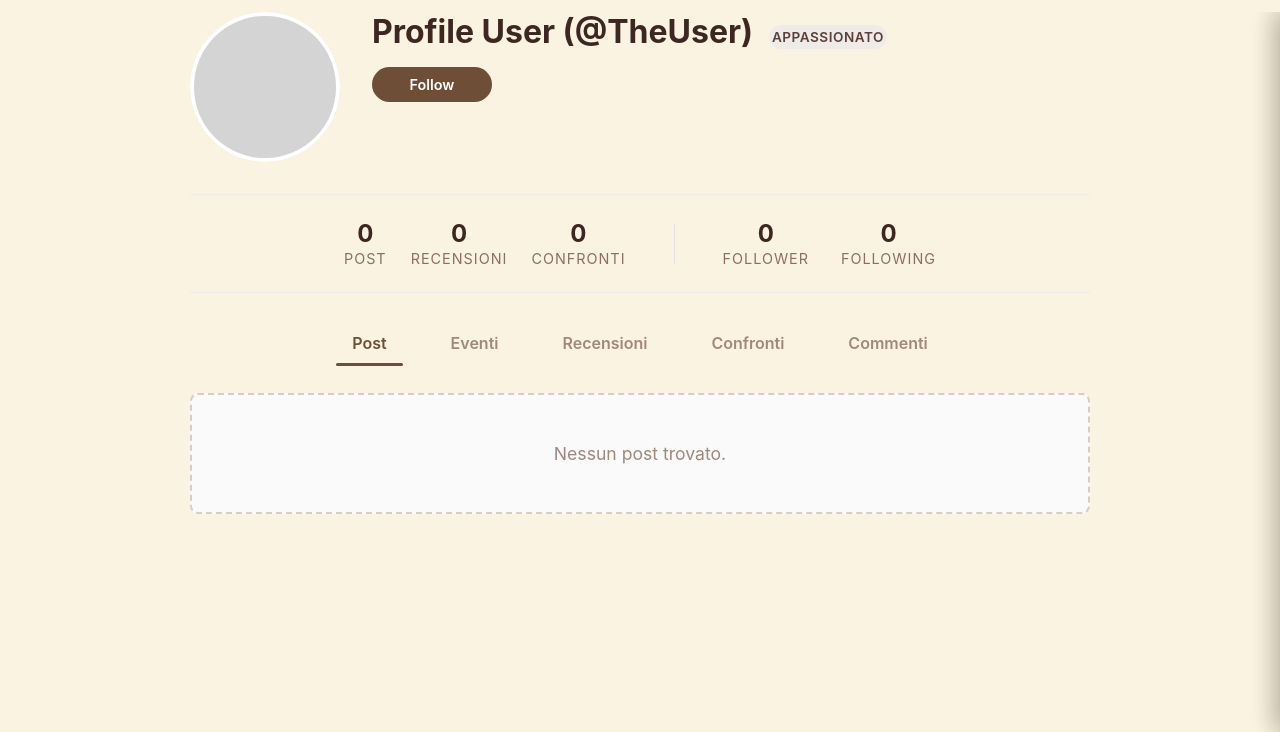
Test: Profile Page › Tab Switching › switches to comments tab and fetches comments
Click the button "Commenti". click: (888, 343)
box: [832,325,944,361]
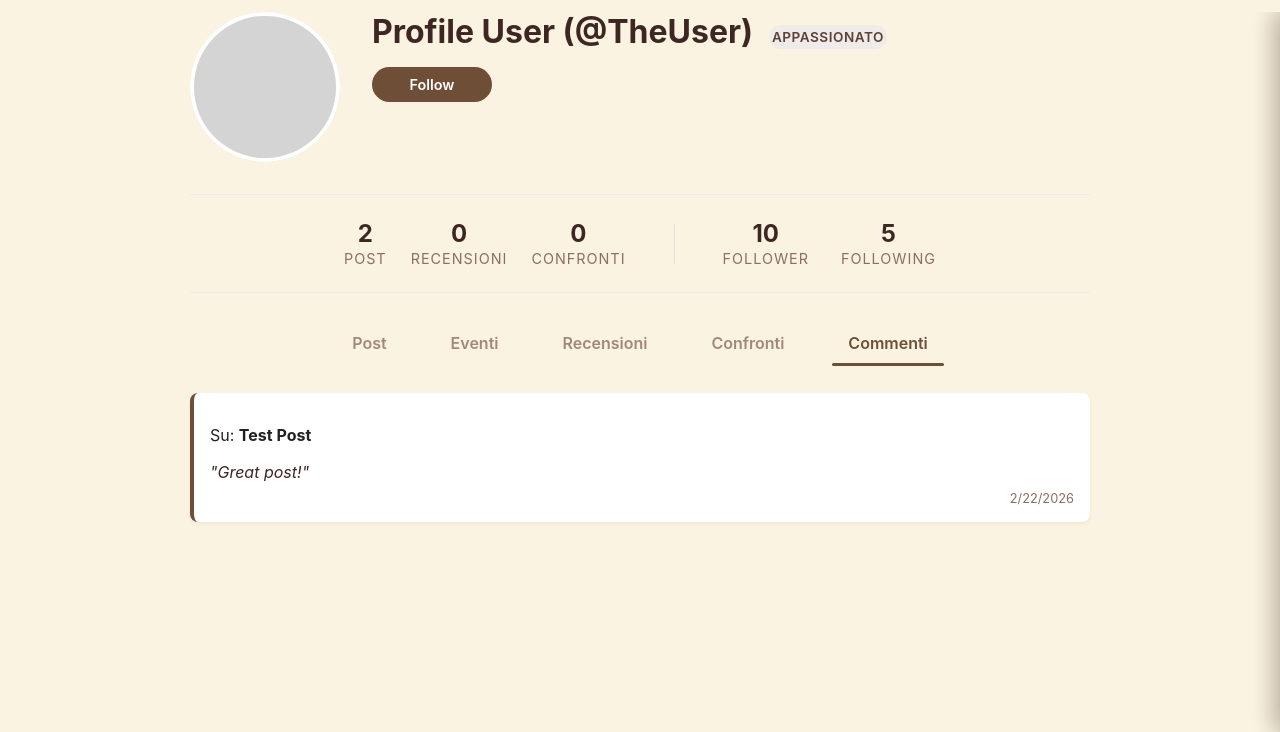
Expected: the text "\"Great post!\"" is shown, [210,462,309,482]
